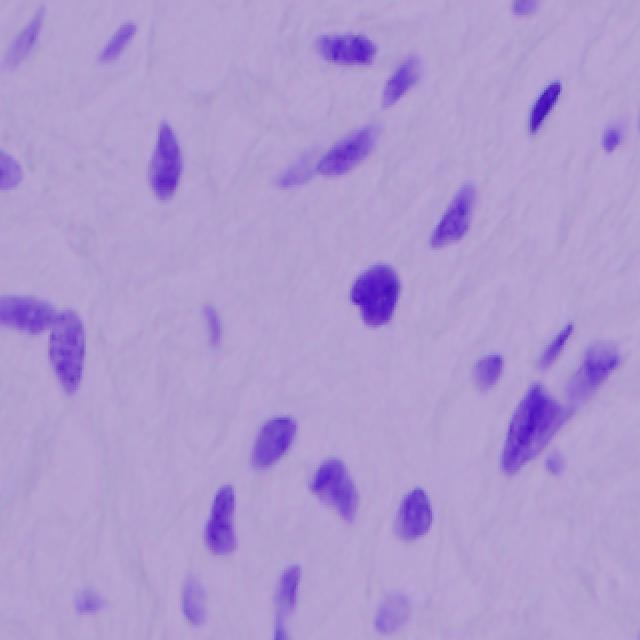cell: (0, 3, 640, 638), (501, 344, 618, 473), (1, 297, 85, 391), (280, 127, 379, 187), (350, 264, 400, 326), (310, 459, 359, 521), (431, 186, 473, 248), (149, 122, 181, 198), (149, 123, 181, 198), (251, 417, 298, 468), (205, 486, 238, 554), (4, 9, 43, 66), (395, 488, 432, 538), (386, 56, 419, 107), (318, 34, 376, 63), (275, 566, 298, 638), (532, 81, 559, 132), (540, 325, 571, 368), (376, 597, 409, 632), (182, 577, 206, 624), (101, 23, 132, 59), (472, 353, 502, 388), (202, 303, 220, 346), (0, 152, 21, 188), (76, 592, 104, 612), (512, 0, 536, 15)
